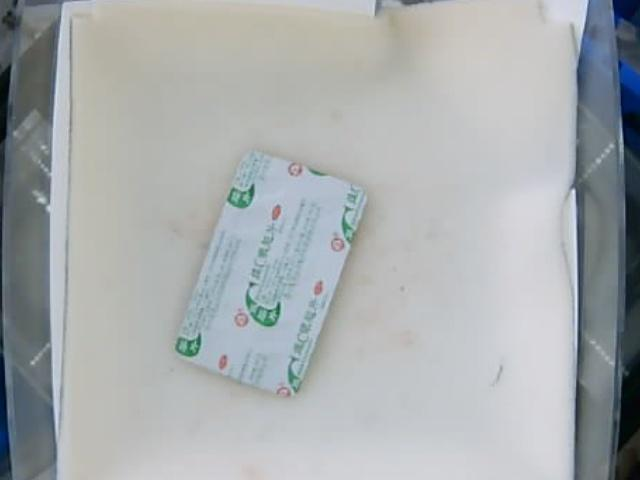Medicine: (173, 149, 367, 395)
